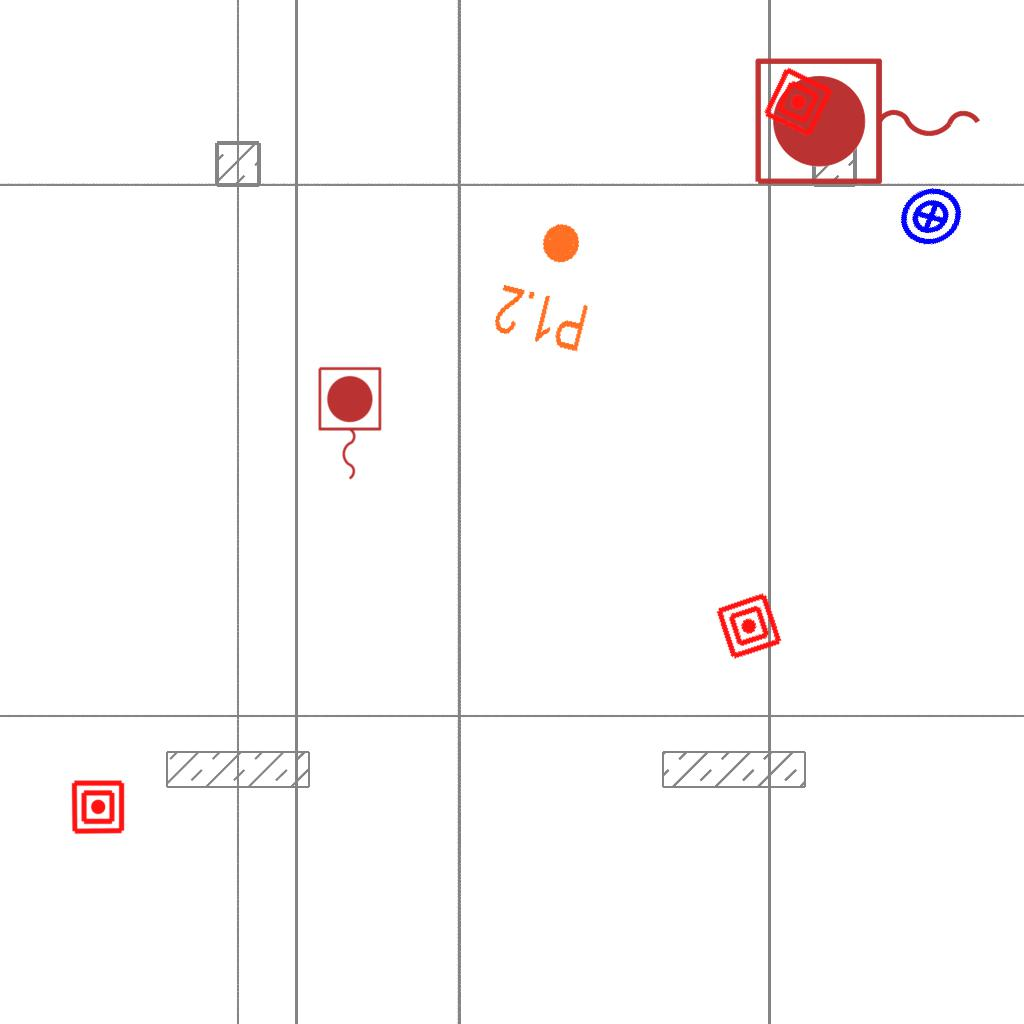Downlight_LED_Einbauleuchten_Flur: (488, 209, 611, 357)
NAM-Nichtautomatischer_Melder: (760, 64, 836, 140), (713, 590, 785, 662), (70, 779, 126, 835)
Taster_beleuchtet: (886, 172, 976, 262)
Zugtaster: (747, 51, 991, 195), (313, 363, 385, 485)
